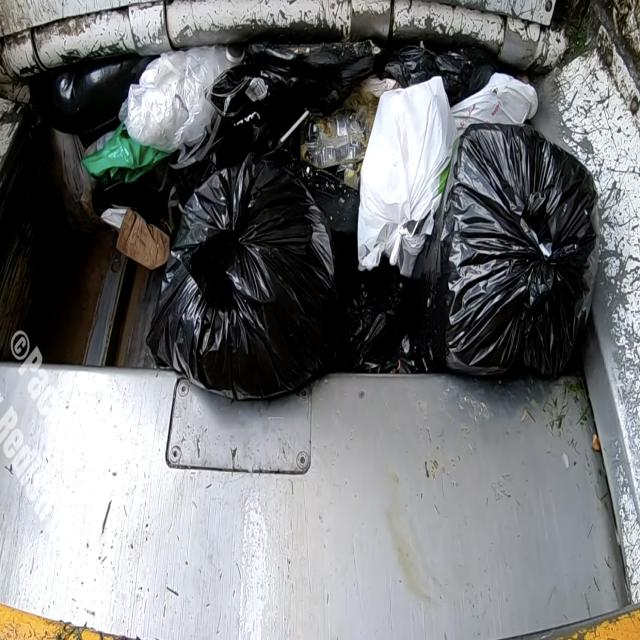bag: (122, 146, 394, 414), (428, 99, 602, 398), (356, 59, 464, 255), (105, 53, 364, 127)
paper: (98, 169, 180, 272)
